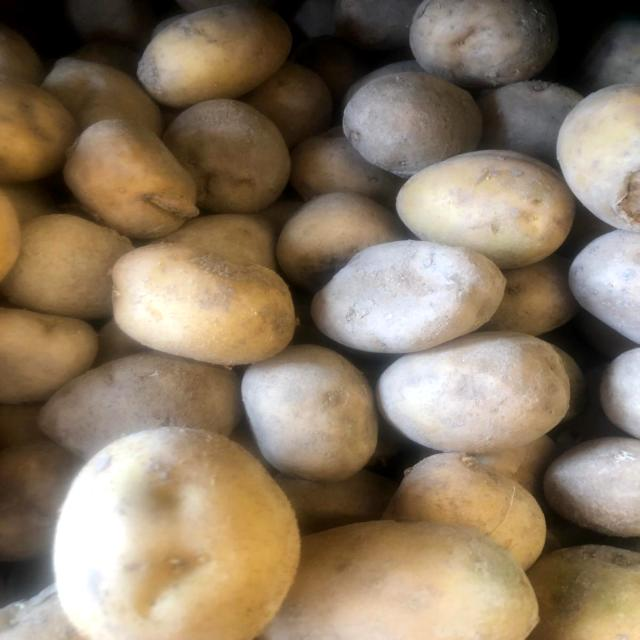potato: (48, 424, 304, 640), (304, 233, 511, 362), (108, 236, 301, 370), (376, 330, 577, 453), (394, 145, 582, 268), (238, 330, 390, 482), (58, 109, 218, 237), (159, 90, 301, 220), (128, 3, 297, 109)
